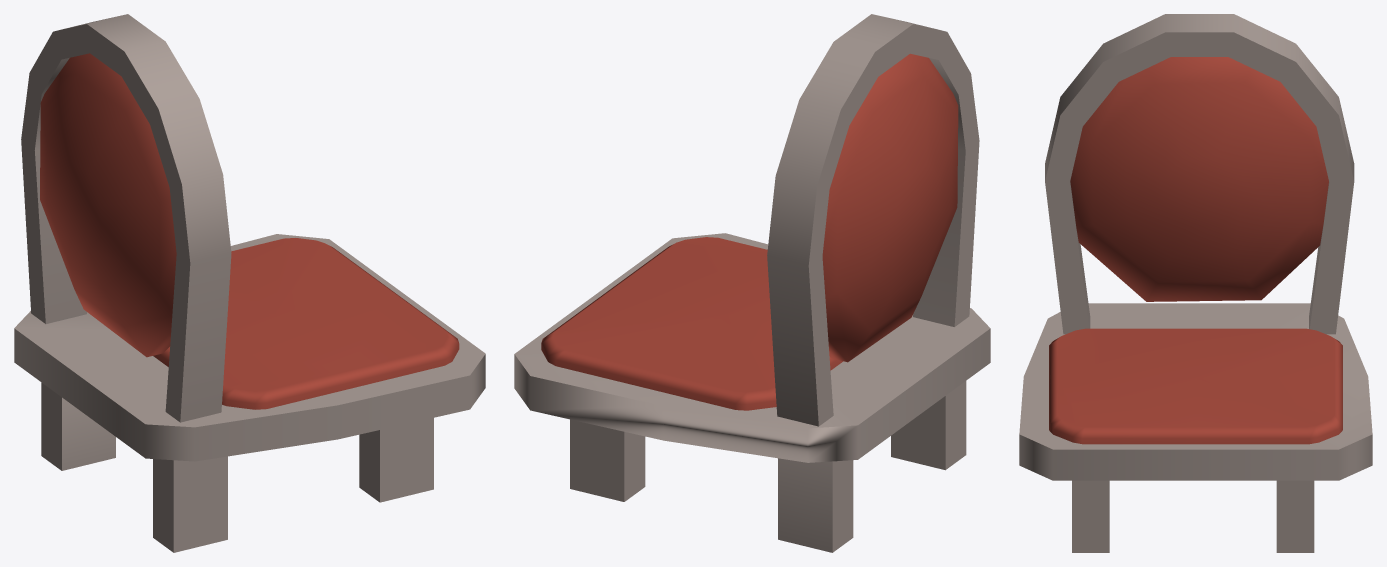
Rendered from PoshChair.fbx.
The picture shows the model from 3 angles, left to right: view 1: azimuth 30°, elevation 25°; view 2: azimuth 150°, elevation 25°; view 3: azimuth 270°, elevation 25°; orthographic projection. The views are drawn at different scales.
Visible parts, largest first — view 1: PoshChair; view 2: PoshChair; view 3: PoshChair.
Boxes of the visible parts, bbox=[...] form: PoshChair: bbox=[14, 14, 485, 552]; PoshChair: bbox=[514, 14, 990, 552]; PoshChair: bbox=[1019, 14, 1372, 552].
Bounding box in the file's own units: 1.04 × 1.41 × 1.06.
Materials: 1 (1 with a texture image).
